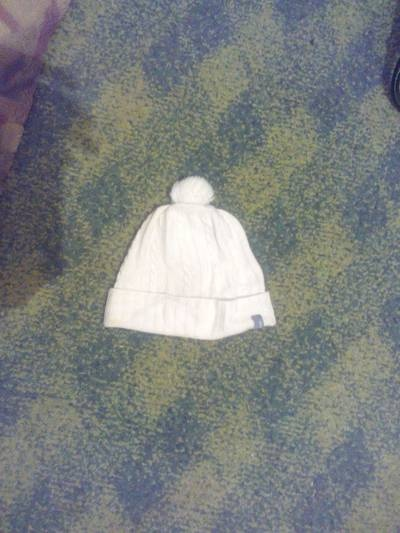Hat: (98, 144, 300, 352)
